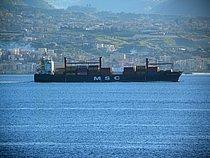Ship: (29, 52, 186, 87)
